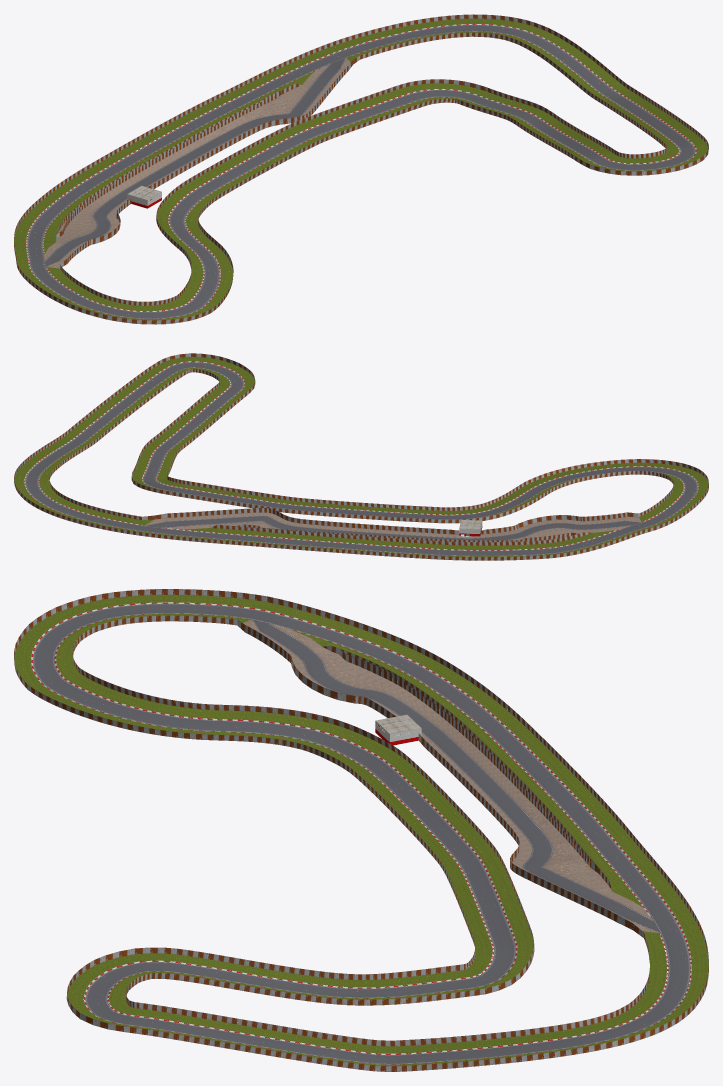
Rendered from brands-hatch12345fix.fbx.
3 renders of one model, top to bottom at view 1: azimuth 30°, elevation 25°; view 2: azimuth 150°, elevation 25°; view 3: azimuth 270°, elevation 25°, orthographic. The views are drawn at different scales.
Parts seen in each view (by area): view 1: Plane, Cube; view 2: Plane, Cube; view 3: Plane, Cube.
Boxes of the visible parts, left/top/right/bottom form: Plane: left=14, top=14, right=708, bottom=324; Cube: left=127, top=185, right=161, bottom=208; Plane: left=14, top=353, right=708, bottom=560; Cube: left=459, top=519, right=482, bottom=536; Plane: left=14, top=589, right=708, bottom=1071; Cube: left=375, top=714, right=421, bottom=745.
Bounding box in the file's own units: 75459 × 2657 × 48708.
